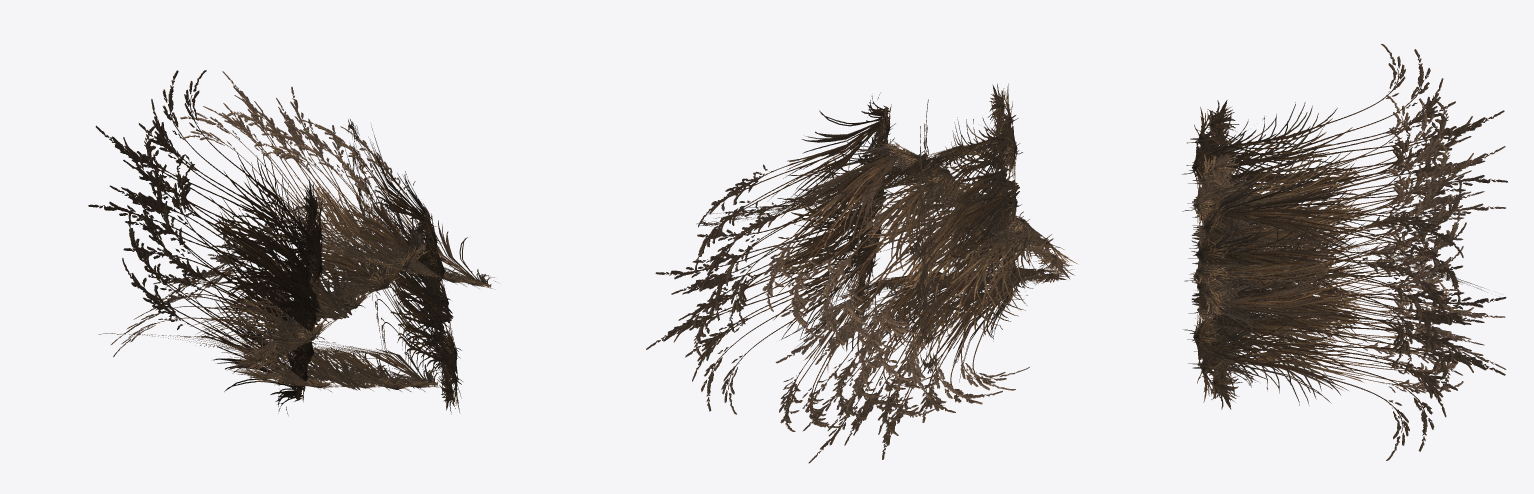
Rendered from grass_3.obj.
3 views of the same model, side by side, from view 1: azimuth 30°, elevation 25°; view 2: azimuth 150°, elevation 25°; view 3: azimuth 270°, elevation 25° (orthographic). The views are drawn at different scales.
Parts seen in each view (by area): view 1: grass_3; view 2: grass_3; view 3: grass_3.
Boxes of the visible parts, <box> form: grass_3: <box>88,70,497,415</box>; grass_3: <box>646,83,1078,463</box>; grass_3: <box>1182,44,1507,460</box>.
Size of the model in its own units: 1.24 by 1.16 by 1.04.
